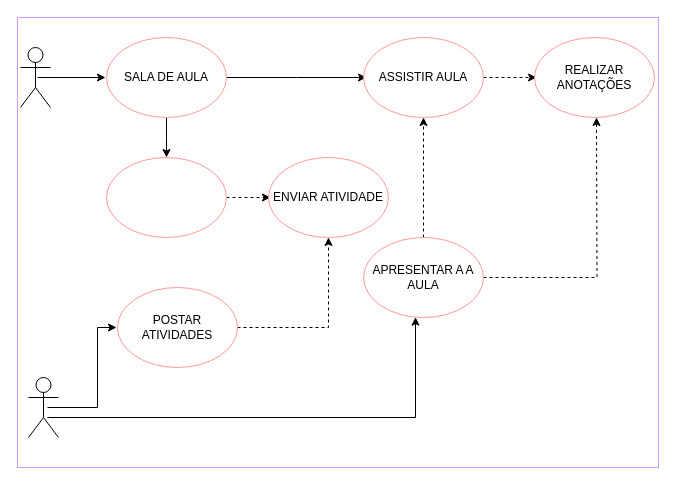
Image size: 676x485. Some labels were removed from this diagram. The centre of each missing label's shape, as x and y in pixels:
"Aluno" goes at point (35, 77).
"ANEXAR ATIVIDADE" goes at point (166, 197).
"Professor" goes at point (43, 407).
